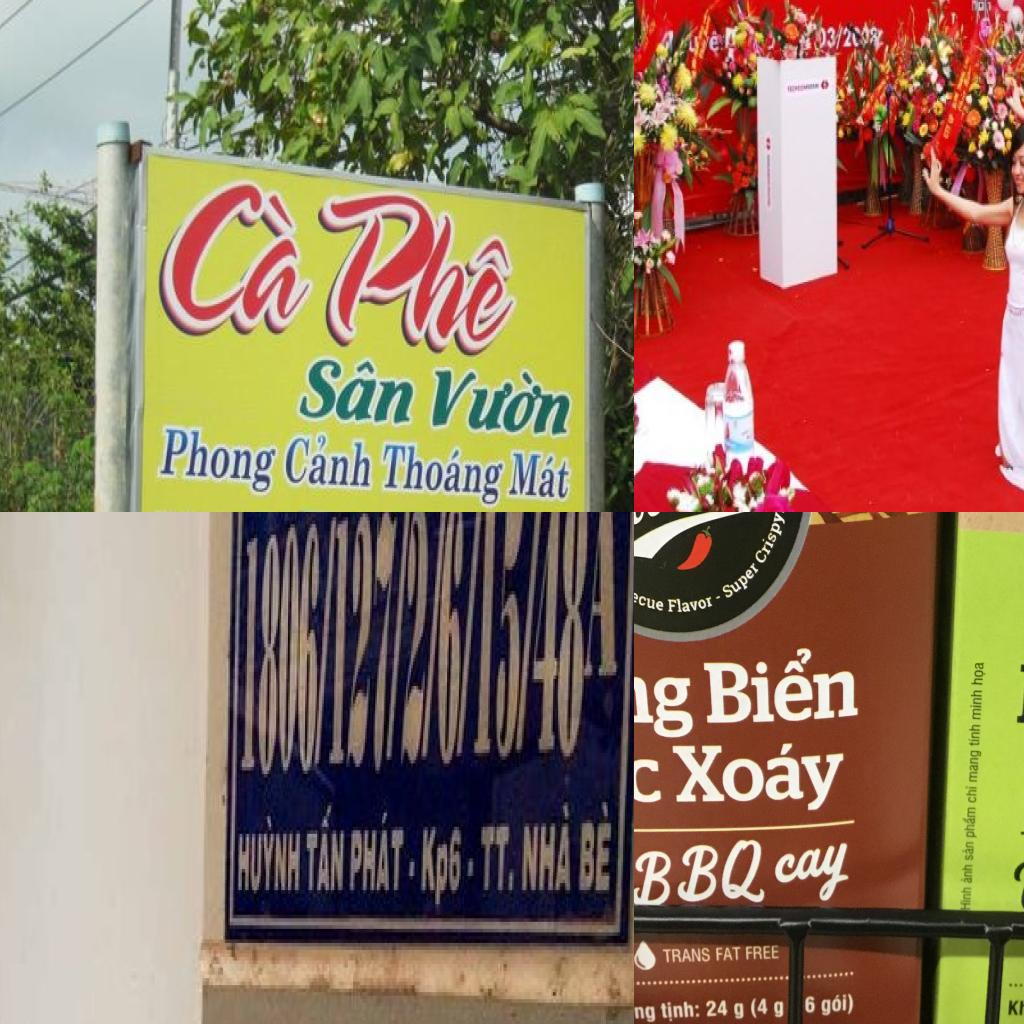text: (238, 512, 629, 784), (317, 178, 524, 364), (158, 159, 316, 341), (424, 357, 583, 444), (672, 740, 854, 814), (702, 646, 860, 726), (154, 410, 282, 498), (296, 346, 423, 434), (379, 438, 508, 512), (634, 836, 770, 906), (348, 806, 423, 904), (284, 422, 376, 498), (235, 809, 305, 904), (519, 798, 577, 908), (418, 820, 479, 918), (634, 655, 696, 743), (773, 840, 858, 903), (304, 798, 350, 908), (502, 444, 572, 509), (577, 795, 616, 904), (476, 816, 521, 904), (754, 512, 790, 569), (720, 560, 762, 604), (634, 738, 661, 806), (634, 568, 666, 620), (804, 992, 854, 1018), (666, 593, 715, 615), (748, 995, 786, 1023), (705, 997, 744, 1024), (662, 946, 711, 967), (661, 1000, 700, 1024), (1010, 855, 1024, 912), (742, 945, 781, 963), (961, 806, 978, 840), (968, 749, 984, 785), (971, 656, 987, 688), (634, 1003, 657, 1024), (970, 690, 984, 720), (716, 945, 742, 961), (824, 23, 837, 53), (958, 886, 972, 911), (960, 862, 974, 887), (964, 781, 978, 804), (968, 723, 982, 746), (709, 30, 722, 54), (1008, 997, 1024, 1016), (834, 26, 844, 53), (962, 841, 974, 862), (842, 24, 852, 48)
